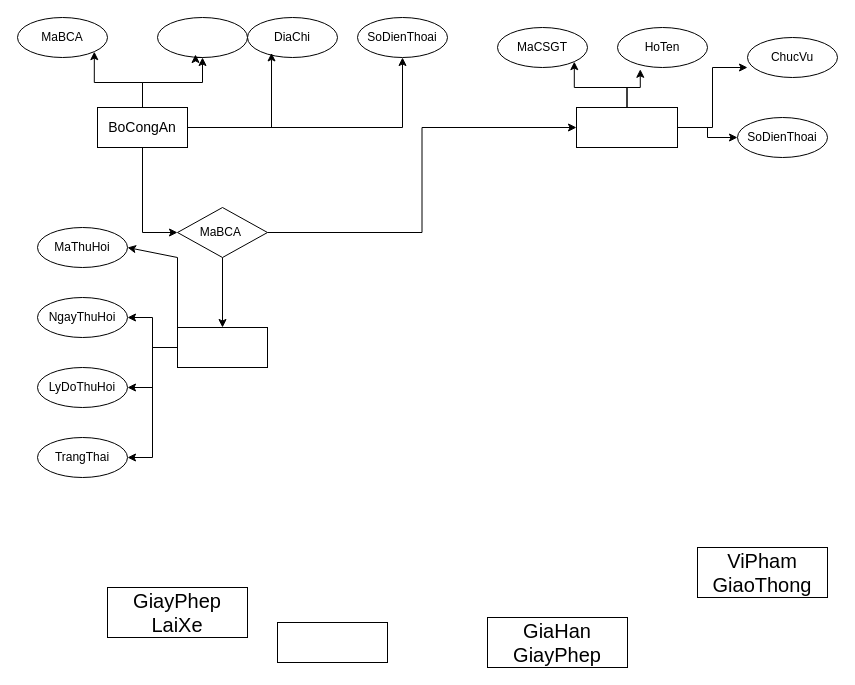
This 855x685 diagram has some shape labels left out. The shapes that lost their labels are listed below. From the top down, each one's box as (x1, y1, x2, y2) in pixels, then its label:
(156, 16, 248, 58): TenBCA
(576, 106, 678, 148): CanhSat GiaoThong
(176, 326, 268, 368): LichSu ThuHoi
(276, 622, 388, 662): TaiXe
